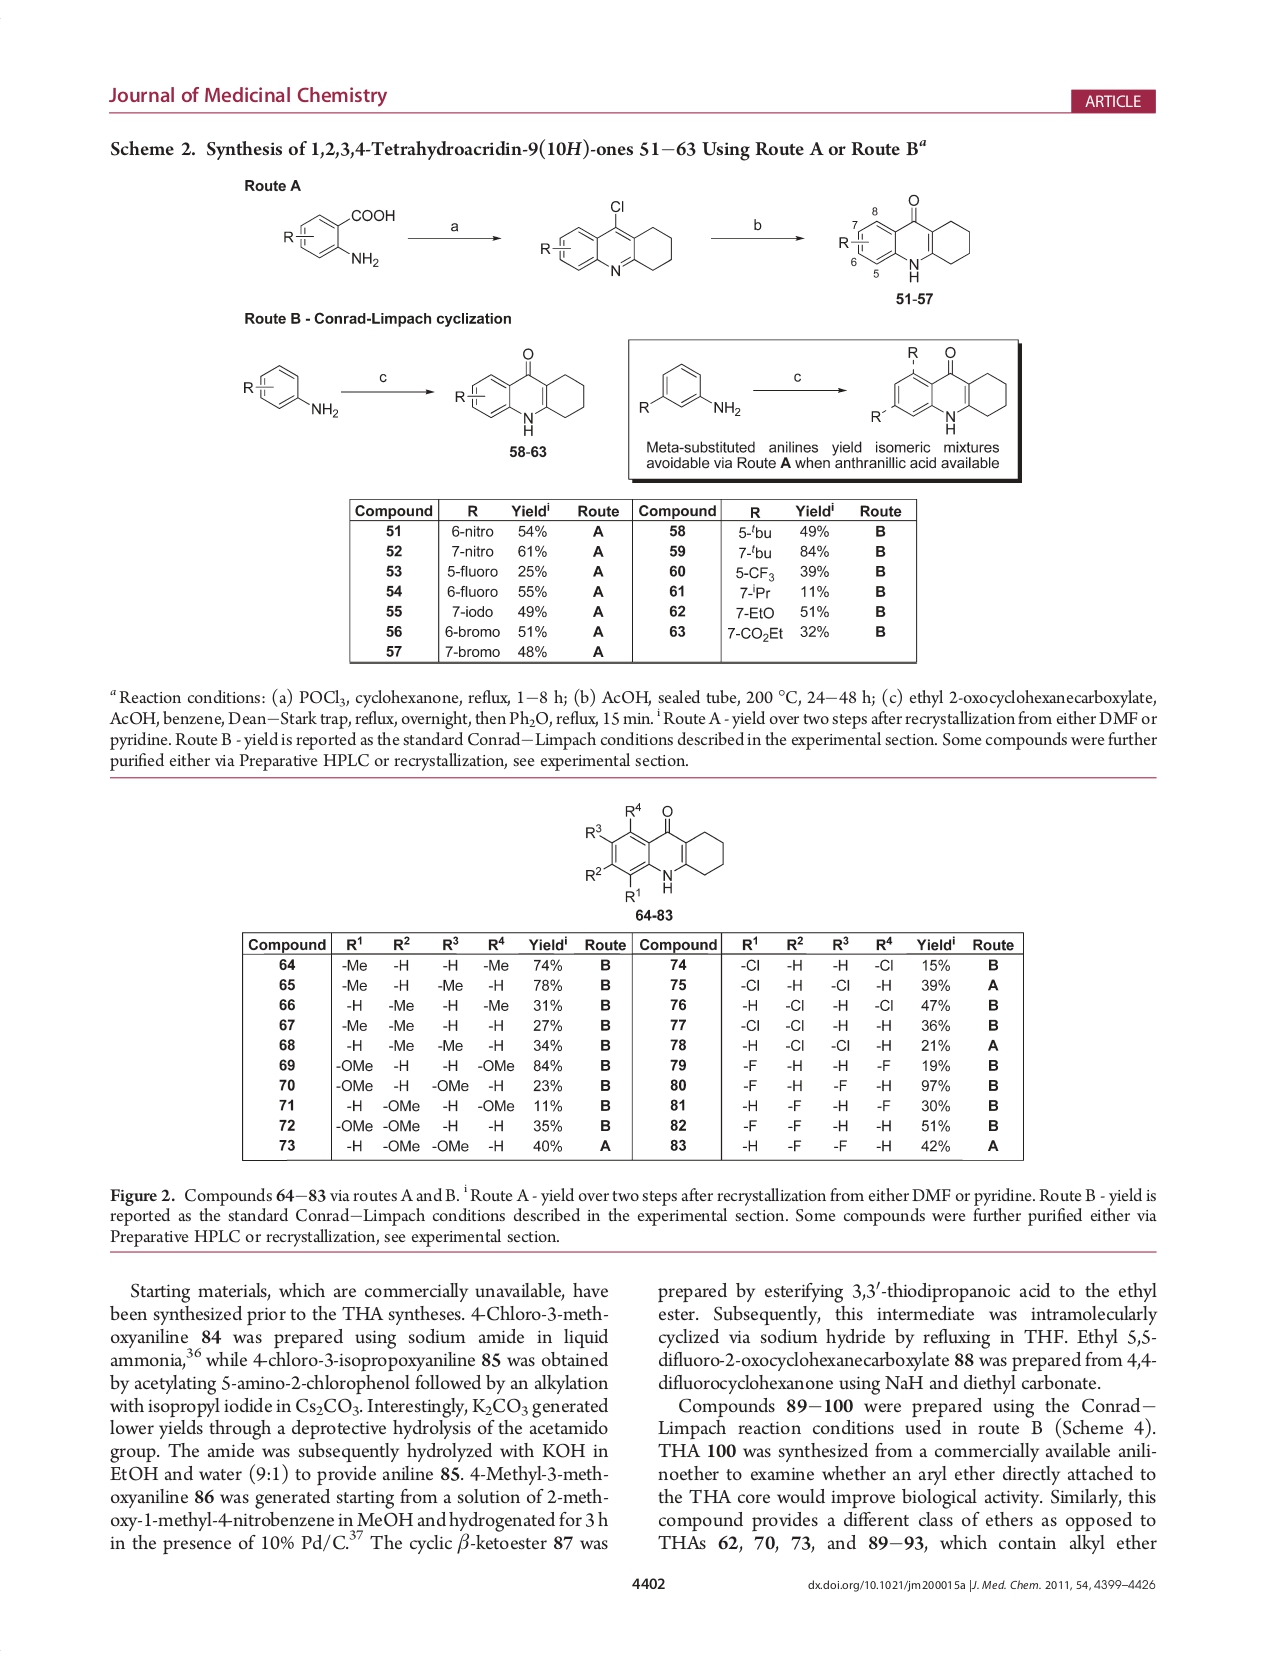exist_molecular: (574, 801, 726, 906), (866, 343, 1009, 438), (835, 184, 969, 283), (448, 343, 589, 438), (536, 193, 676, 281), (277, 202, 398, 277), (238, 358, 340, 420), (636, 360, 739, 420)
